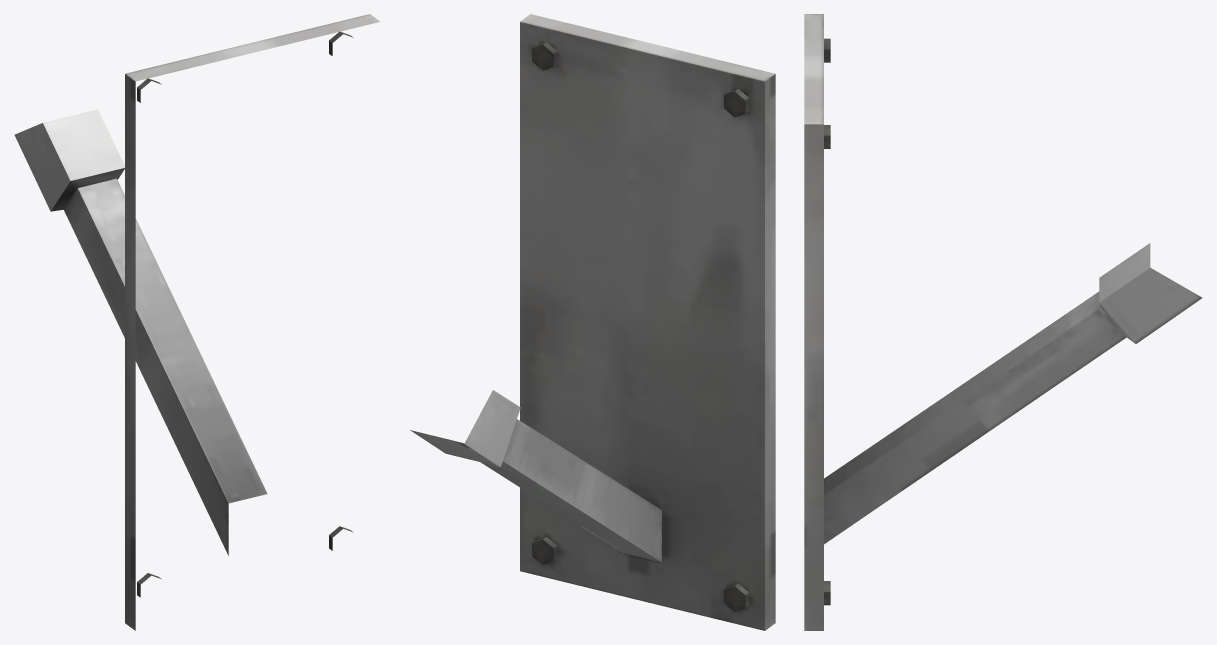
The picture shows the model from 3 angles, left to right: view 1: azimuth 30°, elevation 25°; view 2: azimuth 150°, elevation 25°; view 3: azimuth 270°, elevation 25°; orthographic projection. The views are drawn at different scales.
Parts seen in each view (by area): view 1: body0_model0_lod0_mesh0; view 2: body0_model0_lod0_mesh0; view 3: body0_model0_lod0_mesh0.
Part boxes in pixels (box(x1,y1,x2,y2)): body0_model0_lod0_mesh0: box(14, 14, 380, 630); body0_model0_lod0_mesh0: box(410, 14, 775, 630); body0_model0_lod0_mesh0: box(804, 14, 1202, 630).
Bounding box in the file's own units: 14.08 × 30.19 × 21.52.
Materials: 1 (1 with a texture image).
